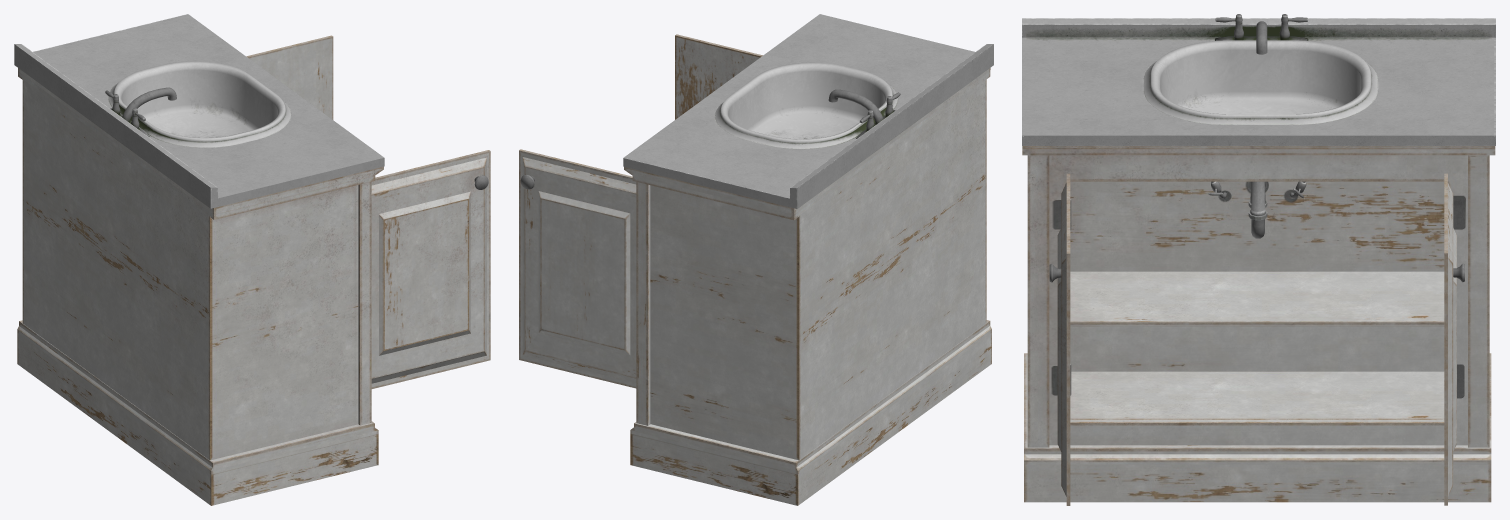
3 views of the same model, side by side, from view 1: azimuth 30°, elevation 25°; view 2: azimuth 150°, elevation 25°; view 3: azimuth 270°, elevation 25° (orthographic). The views are drawn at different scales.
Visible parts, largest first — view 1: Vanity_Cube.013_Vanity_Cube.013, Vanity_Top_Cube.015_Vanity_Top_Cube.015, Vanity_Door_R_Cube.014_Vanity_Door_R_Cube.014; view 2: Vanity_Cube.013_Vanity_Cube.013, Vanity_Top_Cube.015_Vanity_Top_Cube.015, Vanity_Door_R_Cube.014_Vanity_Door_R_Cube.014; view 3: Vanity_Cube.013_Vanity_Cube.013, Vanity_Top_Cube.015_Vanity_Top_Cube.015, Vanity_Door_R_Cube.014_Vanity_Door_R_Cube.014.
Part boxes in pixels (x1,y1,x2,y2): Vanity_Cube.013_Vanity_Cube.013: (17,68,383,505); Vanity_Top_Cube.015_Vanity_Top_Cube.015: (14,14,384,208); Vanity_Door_R_Cube.014_Vanity_Door_R_Cube.014: (246,35,490,388); Vanity_Cube.013_Vanity_Cube.013: (624,68,991,505); Vanity_Top_Cube.015_Vanity_Top_Cube.015: (623,14,993,208); Vanity_Door_R_Cube.014_Vanity_Door_R_Cube.014: (519,34,762,388); Vanity_Cube.013_Vanity_Cube.013: (1022,146,1495,502); Vanity_Top_Cube.015_Vanity_Top_Cube.015: (1022,14,1495,145); Vanity_Door_R_Cube.014_Vanity_Door_R_Cube.014: (1049,173,1464,505).
Size of the model in its own units: 1.75 by 1.87 by 2.
Materials: 3 (3 with a texture image).
